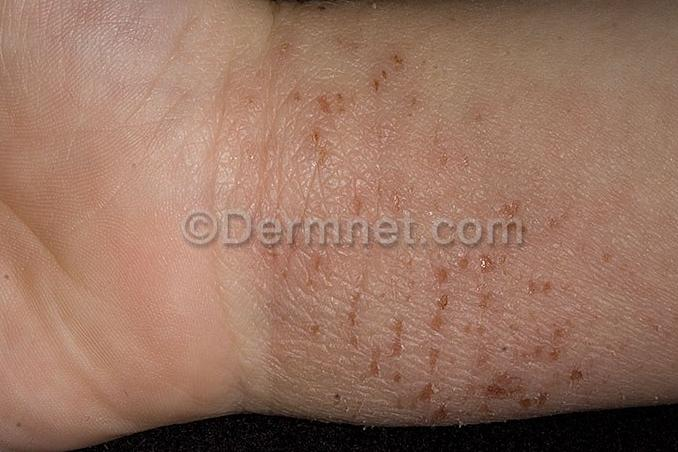edema 1: (250, 0, 639, 442)
excoriacion 1: (262, 44, 593, 428)
